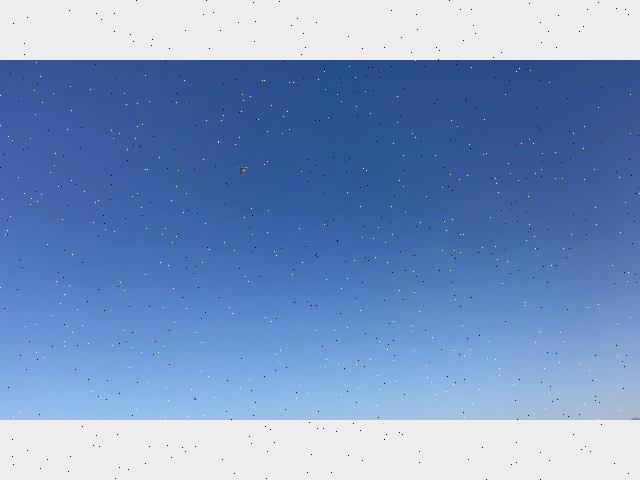Anti-Drone: (232, 161, 258, 178)
